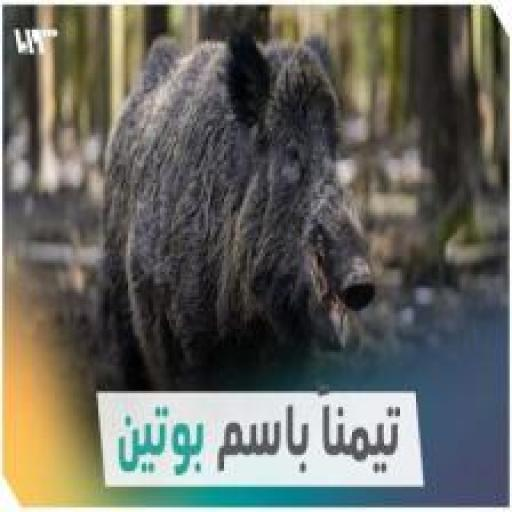Pig: (92, 34, 409, 368)
